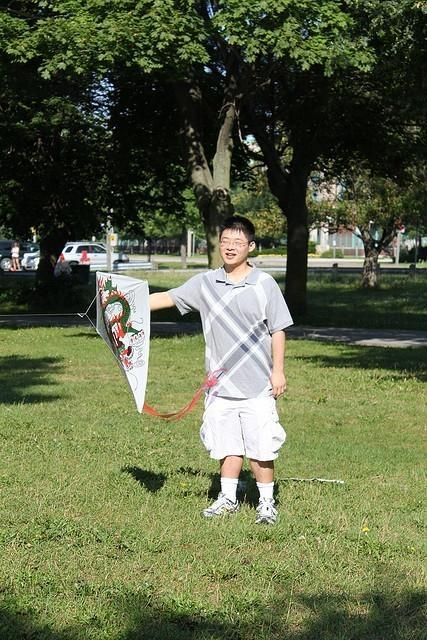car: (64, 243, 126, 264), (1, 241, 30, 270), (22, 248, 40, 270)
